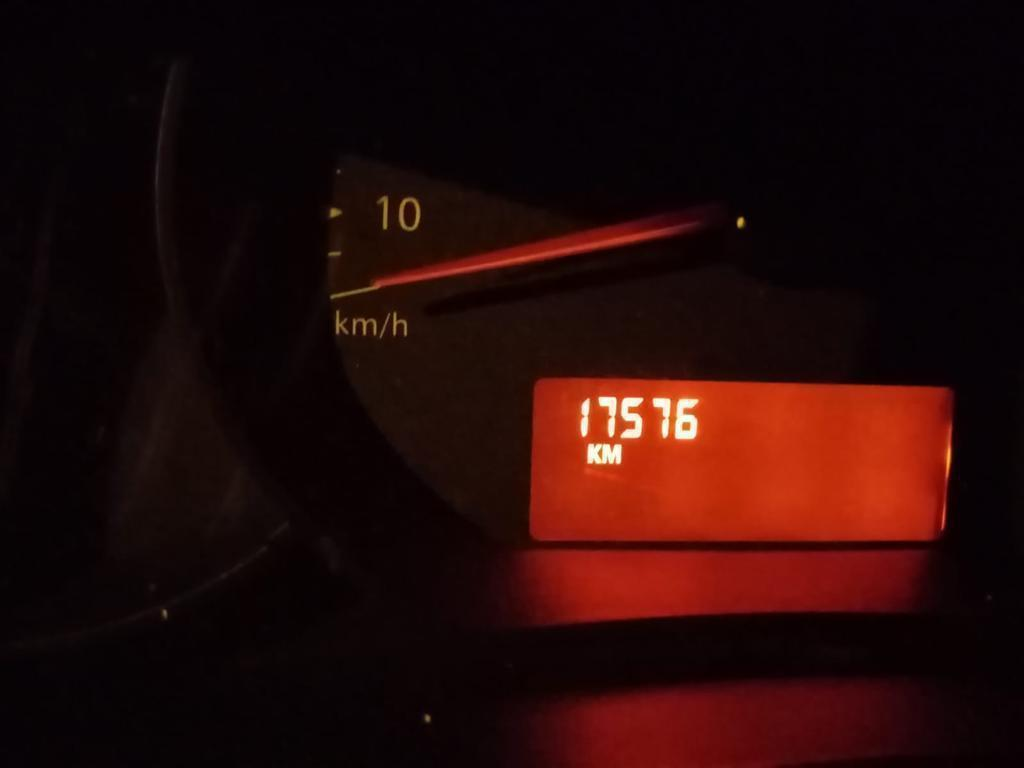1: (650, 395, 672, 440), (577, 395, 592, 439)
5: (619, 395, 643, 440)
6: (673, 397, 700, 440)
7: (595, 394, 617, 439)
X: (601, 441, 623, 465), (585, 440, 602, 465)
odometer: (521, 365, 957, 558)
